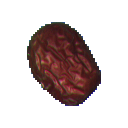gd: (16, 13, 112, 116)
